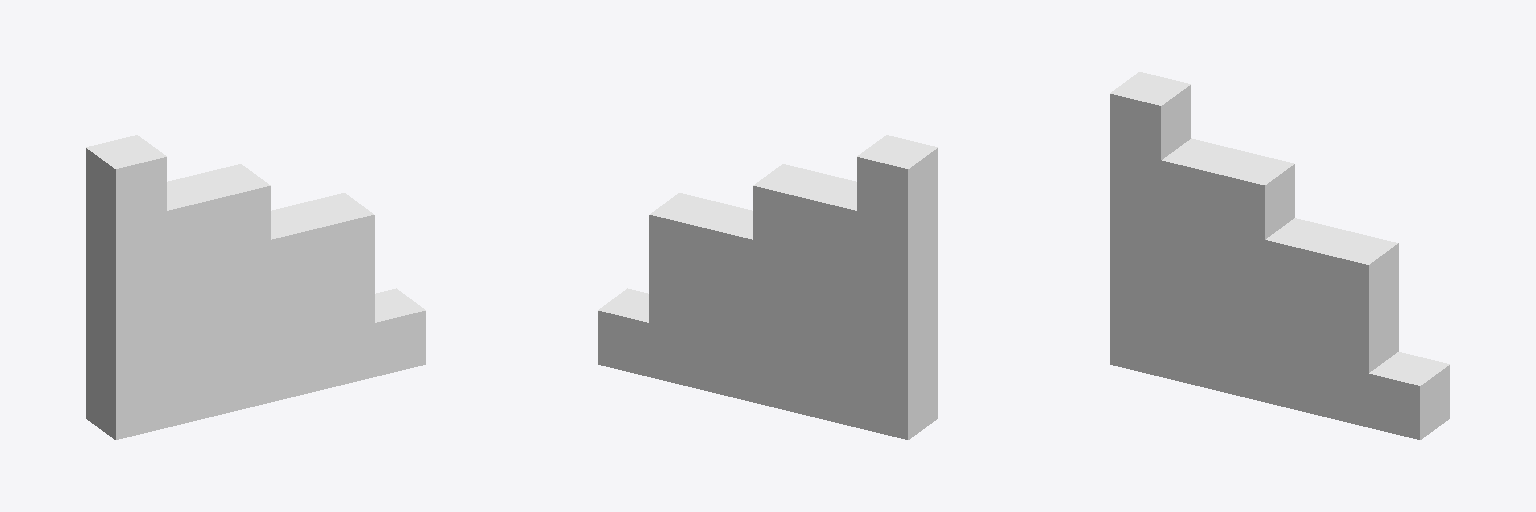
File: YellowHouseParts-72.obj
3 renders of one model, left to right at view 1: azimuth 30°, elevation 25°; view 2: azimuth 150°, elevation 25°; view 3: azimuth 330°, elevation 25°, orthographic.
Visible parts, largest first — view 1: object 1; view 2: object 1; view 3: object 1.
Boxes of the visible parts, x1,y1,x2,y2 form: object 1: [86, 135, 425, 439]; object 1: [598, 135, 937, 439]; object 1: [1110, 72, 1449, 439].
Size of the model in its own units: 0.6 by 0.5 by 0.1.